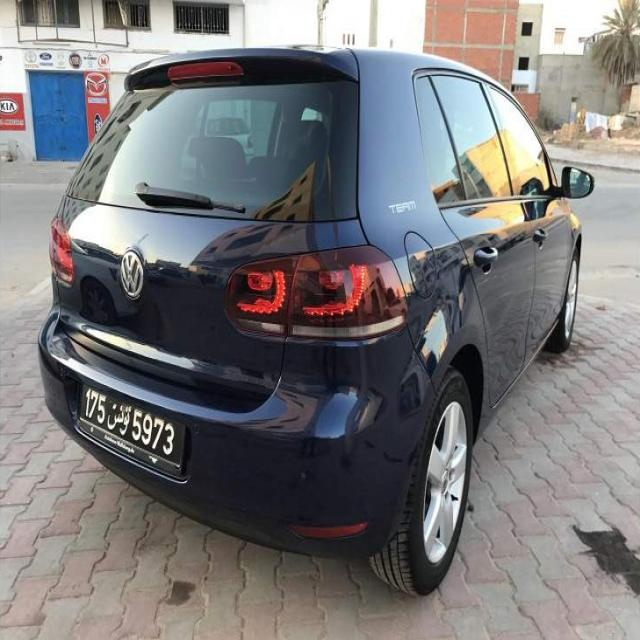licence plate: (80, 385, 185, 465)
